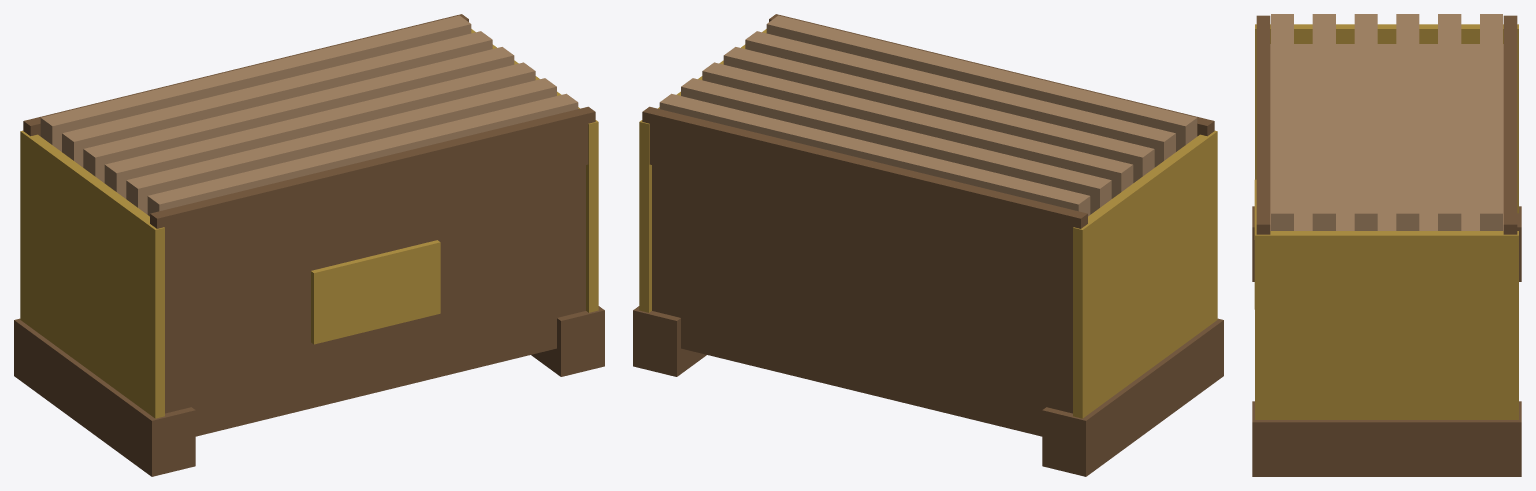
Rendered from Shrine_Saisen.fbx.
3 renders of one model, left to right at view 1: azimuth 30°, elevation 25°; view 2: azimuth 150°, elevation 25°; view 3: azimuth 270°, elevation 25°, orthographic. The views are drawn at different scales.
Parts seen in each view (by area): view 1: Shrine_Saisen; view 2: Shrine_Saisen; view 3: Shrine_Saisen.
Part boxes in pixels (x1,y1,x2,y2): Shrine_Saisen: (14,14,604,476); Shrine_Saisen: (633,14,1223,476); Shrine_Saisen: (1252,14,1521,476).
Bounding box in the file's own units: 9.3 × 5.12 × 4.9.
